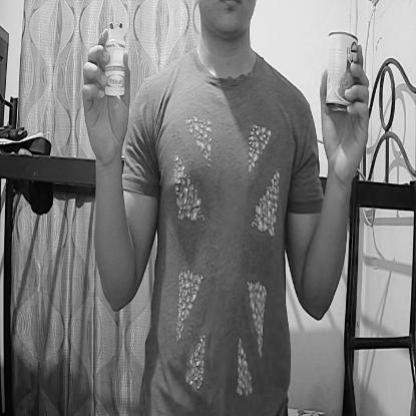Can: (326, 29, 364, 113)
Others: (106, 22, 127, 94)
